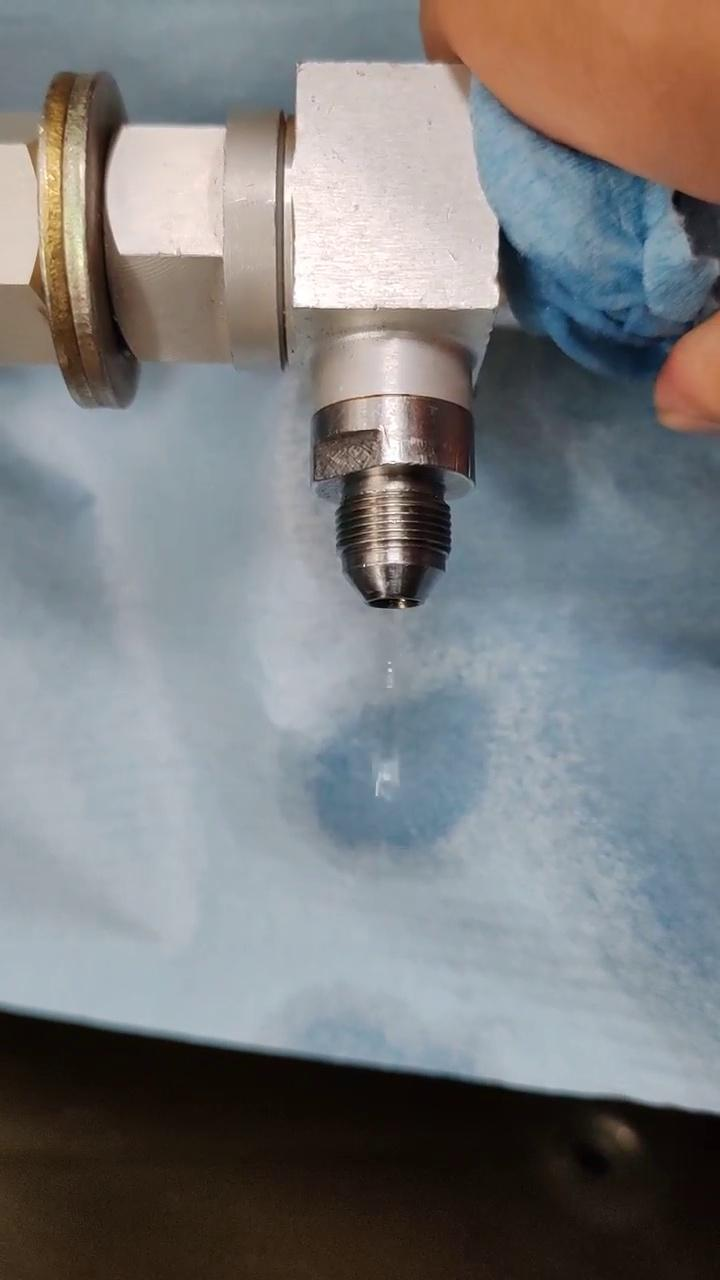water drop: (373, 748, 401, 805), (384, 660, 394, 690)
